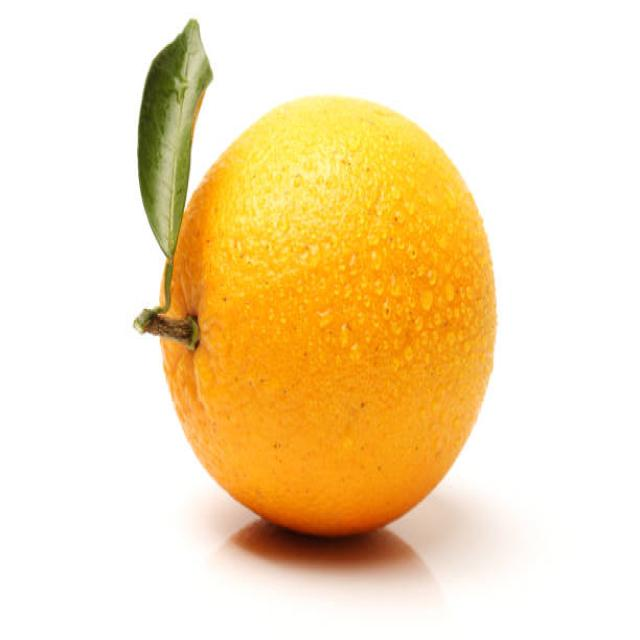Ripe: (159, 87, 499, 539)
